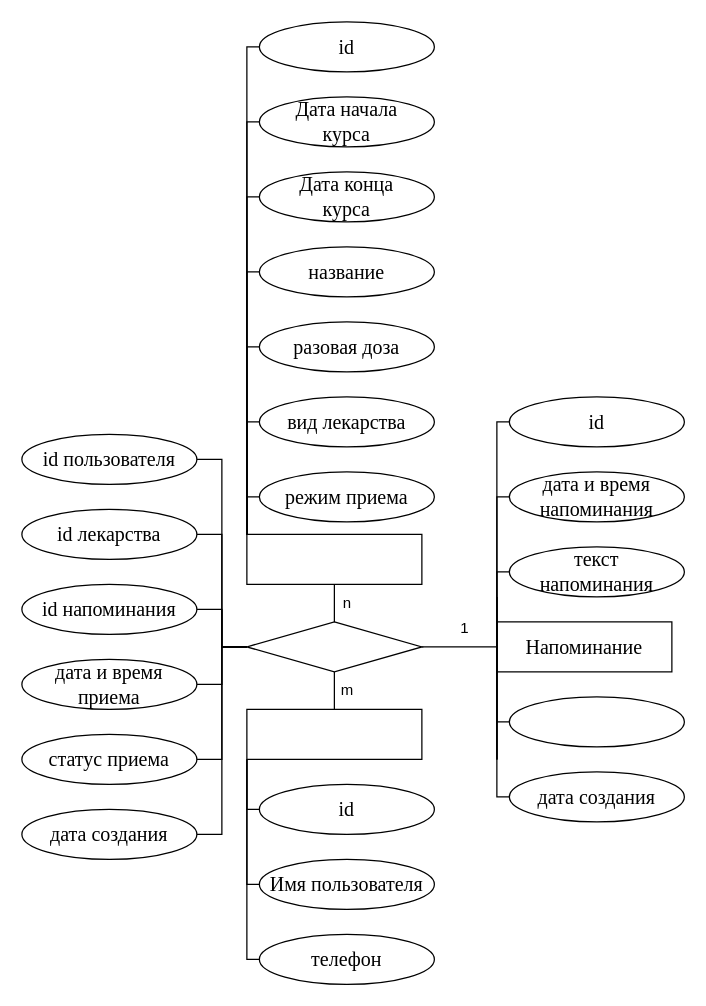
Image size: 706x1006. Some labels were removed from this diagram. Here are the shapes that lost their labels. From the top down, the box of each, then its label:
(246, 533, 422, 584): Лекарство
(246, 621, 422, 672): принимает
(246, 708, 422, 759): Пользователь
(508, 696, 684, 747): статус отправки
